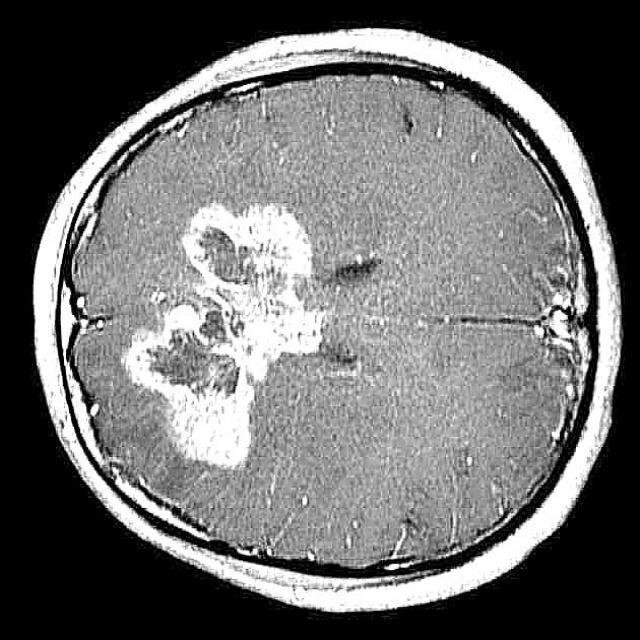tumor: (120, 206, 349, 463)
